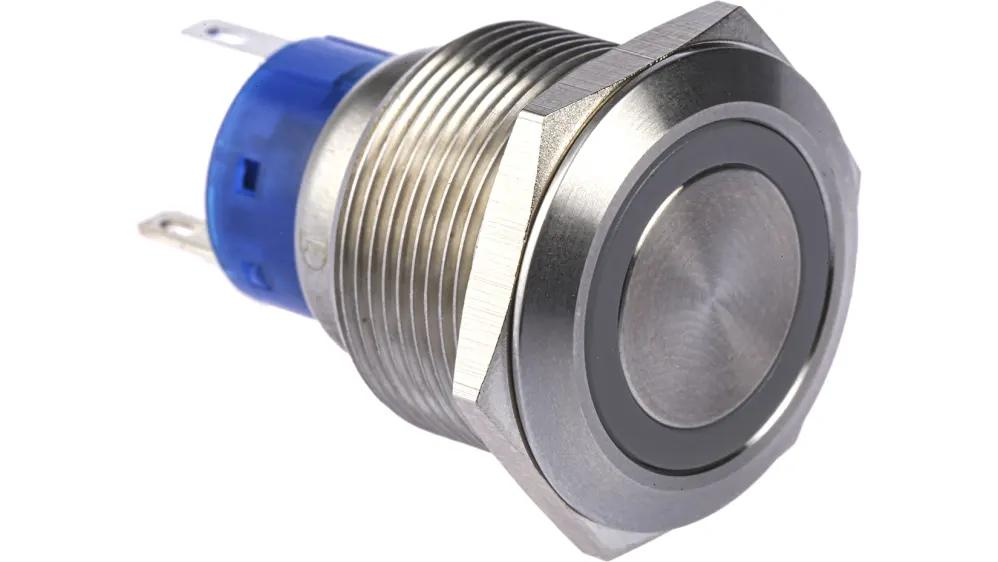pushbutton: (132, 0, 909, 561)
